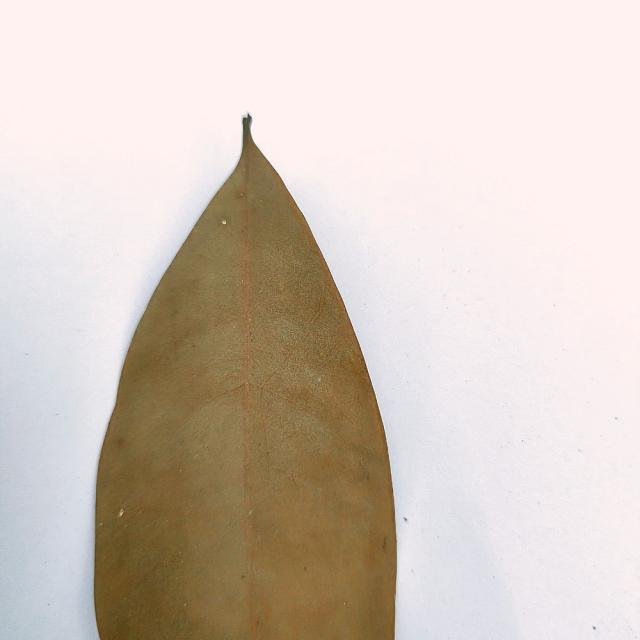Dry_Leaf-Lychee: (92, 118, 398, 639)
